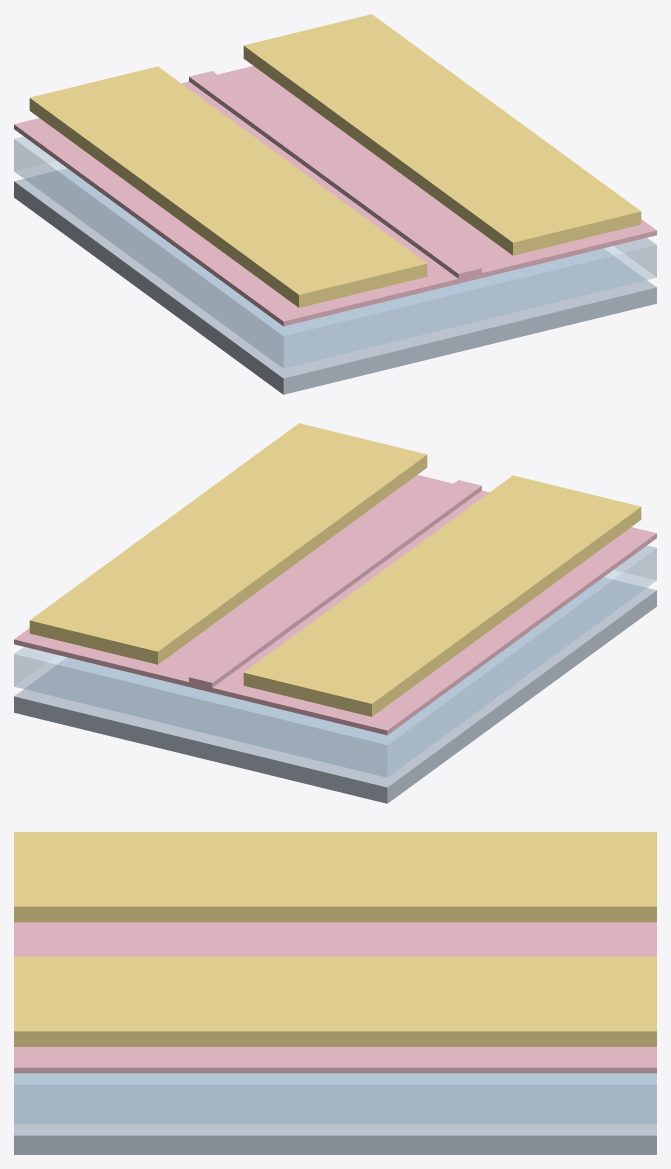
Rendered from stack-tfln-x.glb.
3 views of the same model, one above another, from view 1: azimuth 30°, elevation 25°; view 2: azimuth 150°, elevation 25°; view 3: azimuth 270°, elevation 25° (orthographic). The views are drawn at different scales.
Visible parts, largest first — view 1: gold, sisub, ln, box; view 2: gold, sisub, ln, box; view 3: gold, sisub, ln, box.
Boxes of the visible parts, x1,y1,x2,y2 form: gold: [29, 14, 641, 307]; sisub: [14, 168, 656, 394]; ln: [14, 66, 656, 326]; box: [14, 136, 656, 368]; gold: [29, 423, 641, 716]; sisub: [14, 577, 656, 803]; ln: [14, 475, 656, 735]; box: [14, 545, 656, 777]; gold: [14, 832, 656, 1046]; sisub: [14, 1073, 656, 1154]; ln: [14, 922, 656, 1073]; box: [14, 1073, 656, 1123].
Size of the model in its own units: 24 by 5.9 by 30.
